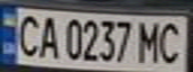0: (60, 15, 84, 61)
2: (78, 16, 100, 62)
3: (97, 17, 118, 63)
7: (112, 17, 136, 63)
A: (33, 12, 63, 60)
C: (154, 18, 187, 65), (12, 10, 42, 58)
M: (136, 18, 166, 64)
